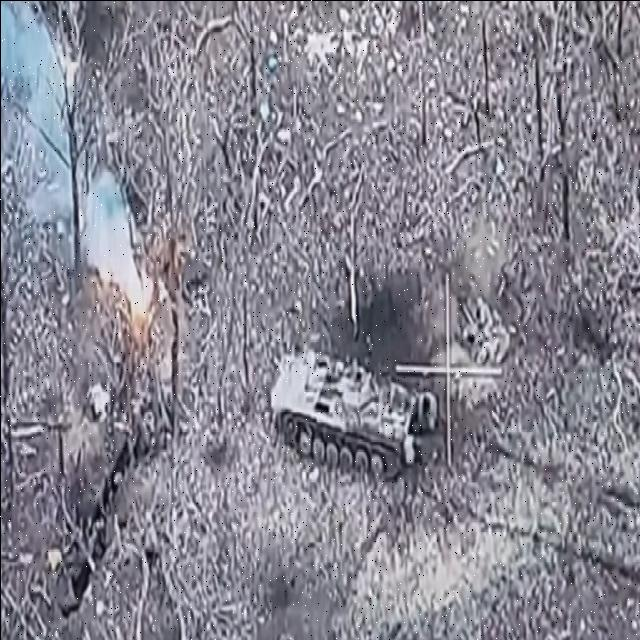APC-IFV: (270, 362, 431, 476)
